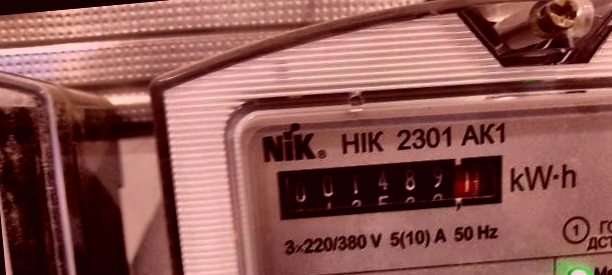0: (317, 171, 335, 198), (290, 178, 307, 204)
1: (345, 168, 362, 198), (458, 164, 472, 195)
4: (372, 166, 391, 193)
8: (398, 164, 418, 192)
9: (427, 163, 445, 189)
screen: (259, 139, 521, 237)
